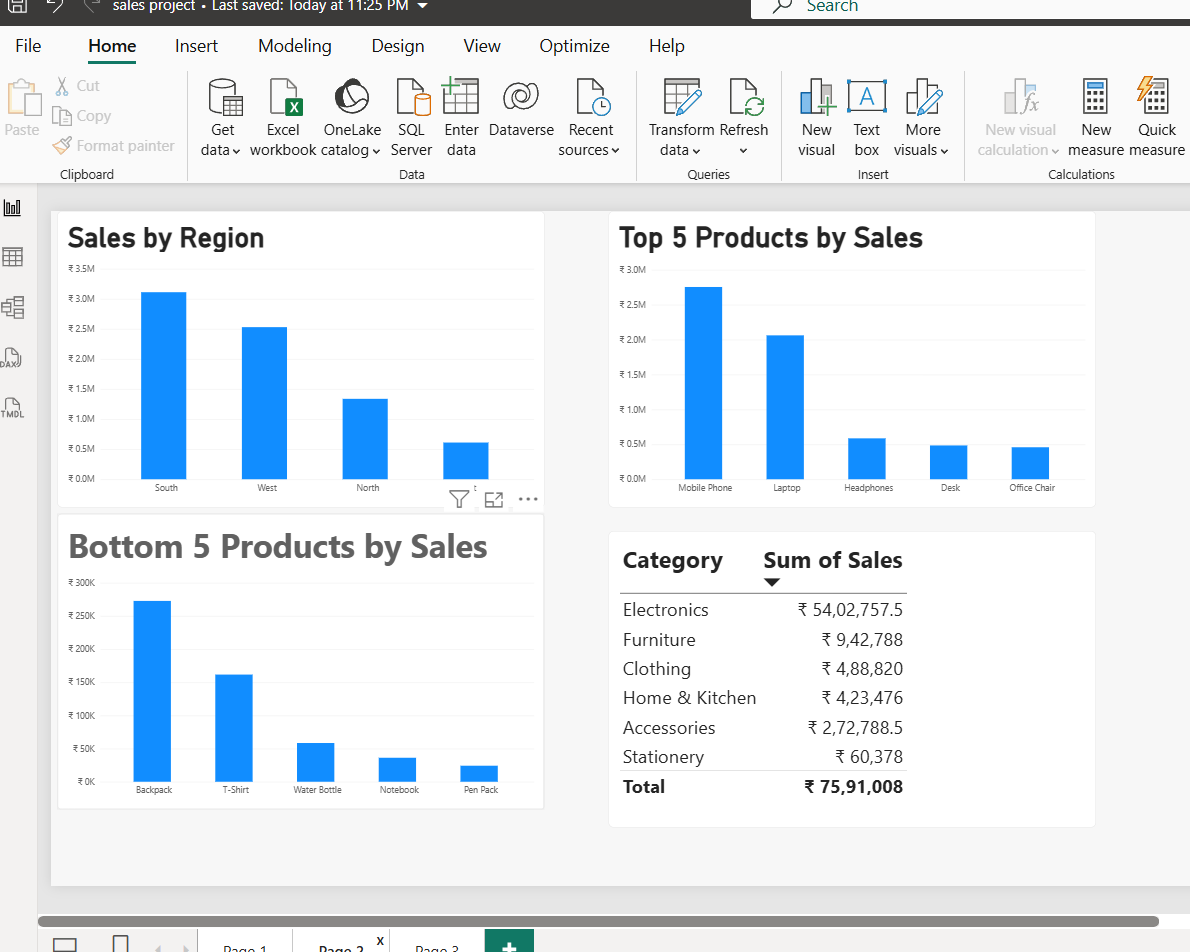

Layout of this report page (visuals, bound fields, positions):
{"tool":"powerbi","page":{"name":"Page 2","canvas":[1920,1080],"ordinal":1},"visuals":[{"type":"clusteredColumnChart","title":"Sales by Region","fields":{"Category":["sales.Region"],"Y":["Sum(sales.Sales)"]},"box":[10,0,780,474],"z":0},{"type":"clusteredColumnChart","title":"Top 5 Products by Sales","fields":{"Category":["sales.Product"],"Y":["Sum(sales.Sales)"]},"box":[892,0,780,474],"z":1},{"type":"clusteredColumnChart","fields":{"Category":["sales.Product"],"Y":["Sum(sales.Sales)"]},"box":[10,484,780,474],"z":2},{"type":"tableEx","fields":{"Values":["sales.Category","Sum(sales.Sales)"]},"box":[892,512,780,474],"z":3}]}

Visuals, with their boxes on the page's 1920x1080 design canvas (x1, y1, x2, y2). These are canvas units, not pixel positions in the 1190x952 screenshot, which may show the page scaled, cropped or inside an application window:
"Sales by Region" clusteredColumnChart: [left=10, top=0, right=790, bottom=474]
"Top 5 Products by Sales" clusteredColumnChart: [left=892, top=0, right=1672, bottom=474]
clusteredColumnChart - sales.Product x Sum(sales.Sales): [left=10, top=484, right=790, bottom=958]
tableEx - sales.Category x Sum(sales.Sales): [left=892, top=512, right=1672, bottom=986]
